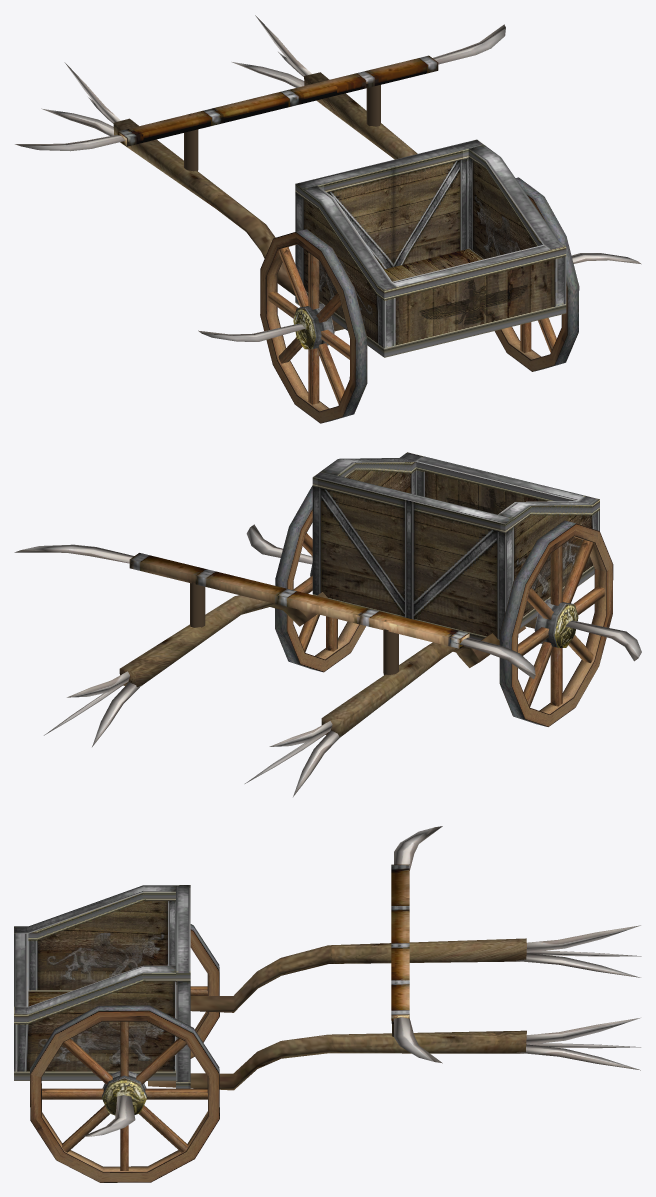
Rendered from pers_chariot_a.glb.
3 views of the same model, one above another, from view 1: azimuth 30°, elevation 25°; view 2: azimuth 150°, elevation 25°; view 3: azimuth 270°, elevation 25° (orthographic). The views are drawn at different scales.
Bounding box in the file's own units: 11.23 × 4.41 × 12.56.
Materials: 1 (1 with a texture image).
